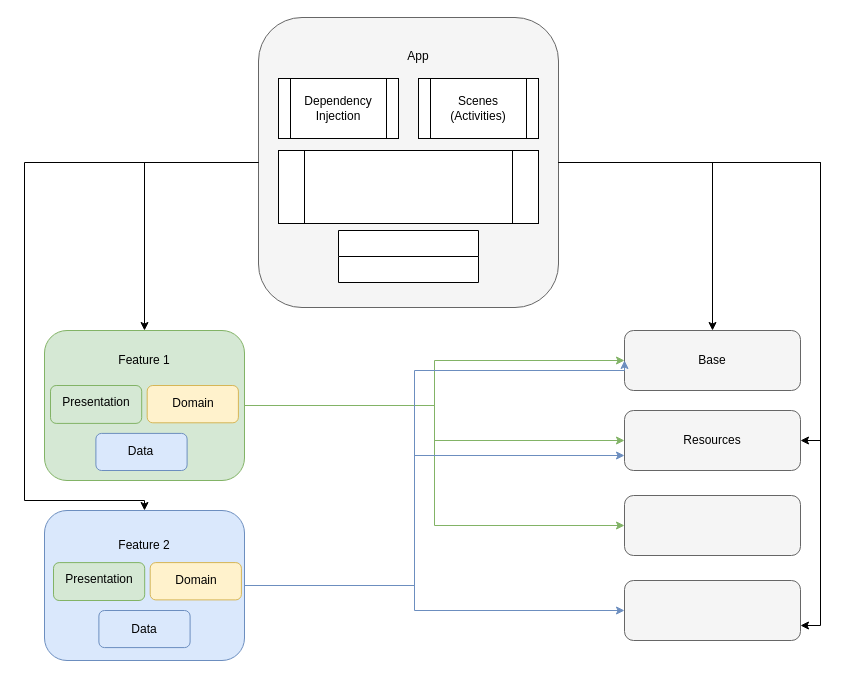
This 846x678 diagram has some shape labels left out. The shapes that lost their labels are listed below. From the top down, each one's centre as x and y in pixels, then its label:
pixel 408 187: Navigation: Router Implementation Navigator
pixel 408 256: Application
pixel 712 525: Components
pixel 712 610: Network
